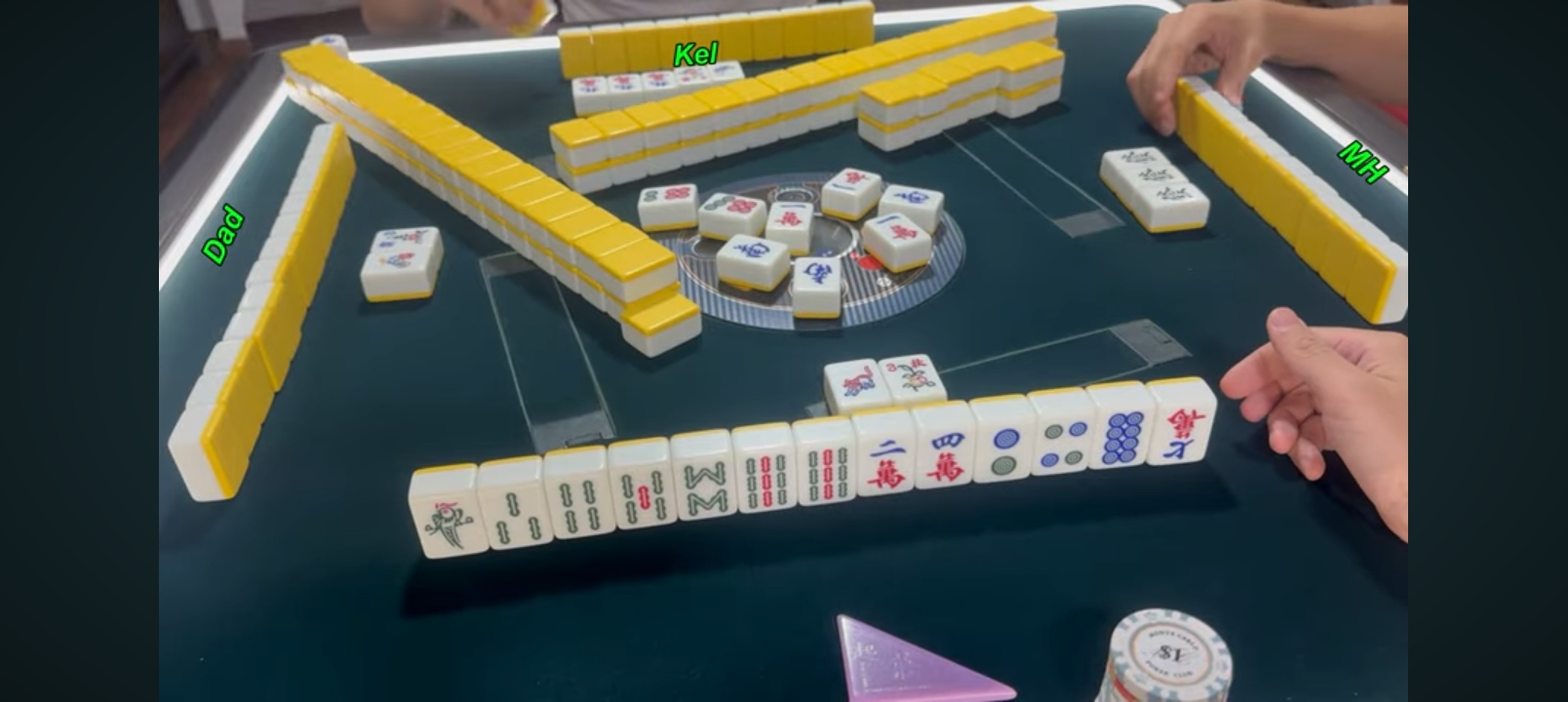TILE: (410, 495, 484, 556), (478, 485, 550, 547), (545, 475, 612, 537), (609, 467, 677, 527), (732, 449, 797, 511), (674, 459, 737, 521), (795, 443, 857, 505), (1095, 407, 1156, 468), (976, 419, 1035, 482), (1155, 403, 1216, 463), (919, 426, 977, 488), (858, 435, 917, 495), (1035, 415, 1093, 476), (880, 354, 952, 399), (823, 359, 883, 408)
